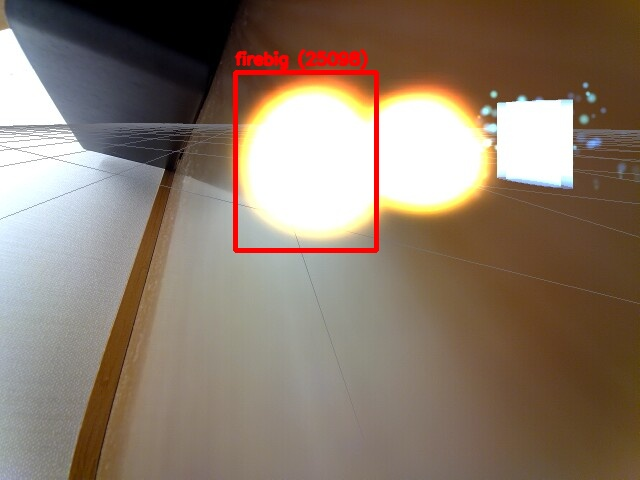firebig: (235, 72, 376, 250)
